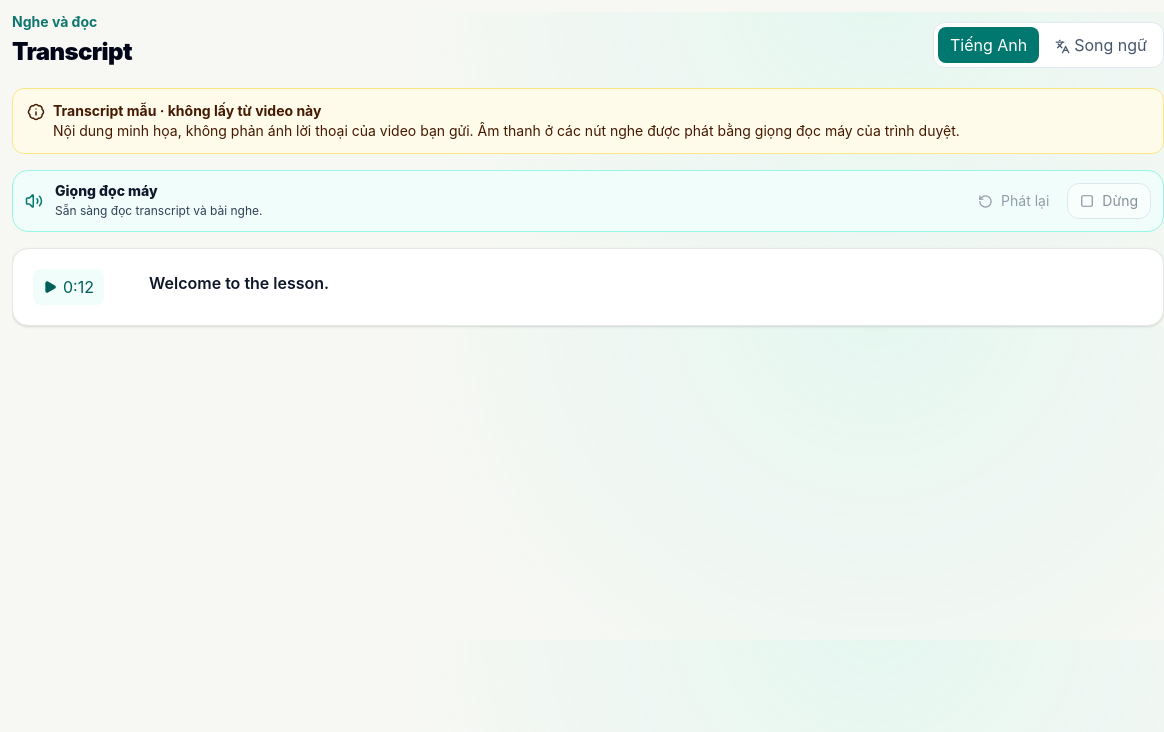
TranscriptPanel speech › speaks the exact source text without speaking its translation
What coordinates should you click on to do the following:
click the button named "Đọc đoạn transcript từ 0:12 đến 0:30 bằng giọng đọc máy"
I would click on:
 (68, 287)
Its box is x1=33 y1=269 x2=104 y2=305.
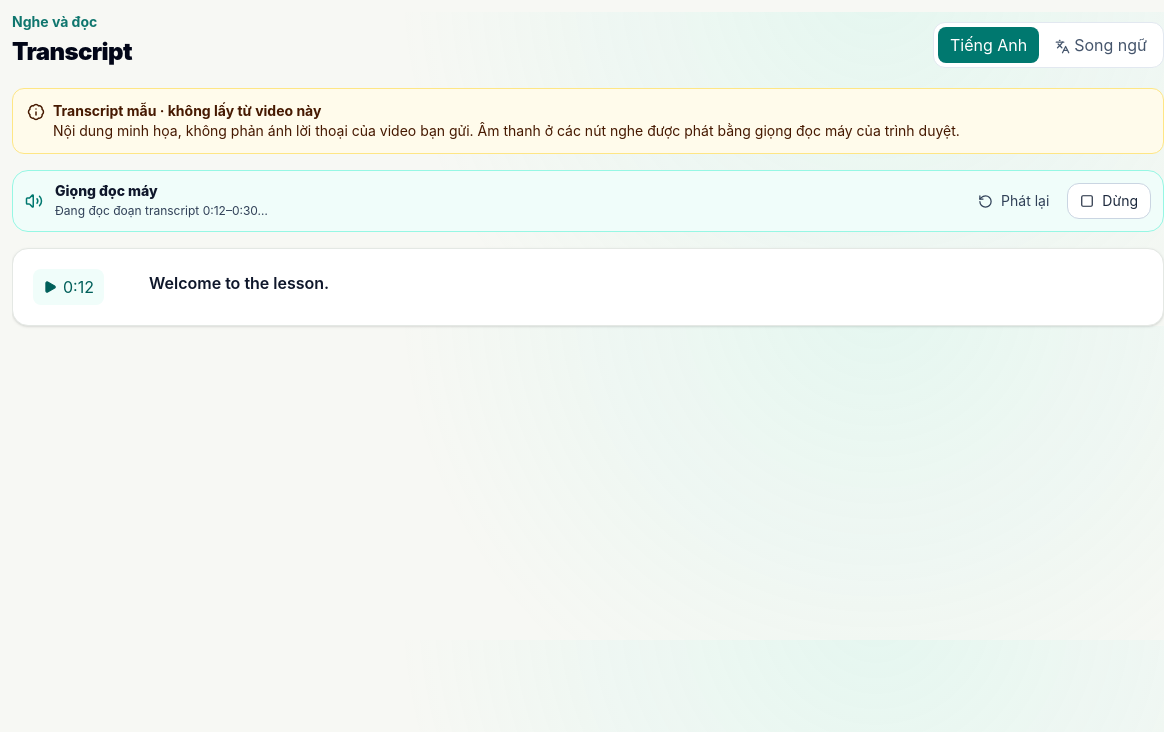
Check: the text "Welcome to the lesson." is shown, box x1=149 y1=273 x2=329 y2=293
Check: the text "Transcript mẫu · không lấy từ video này" is shown, box x1=53 y1=102 x2=321 y2=119
What coordinates should you click on to do the following:
click the button "Song ngữ"
I would click on:
 (1101, 45)
Its box is x1=1043 y1=27 x2=1159 y2=63.
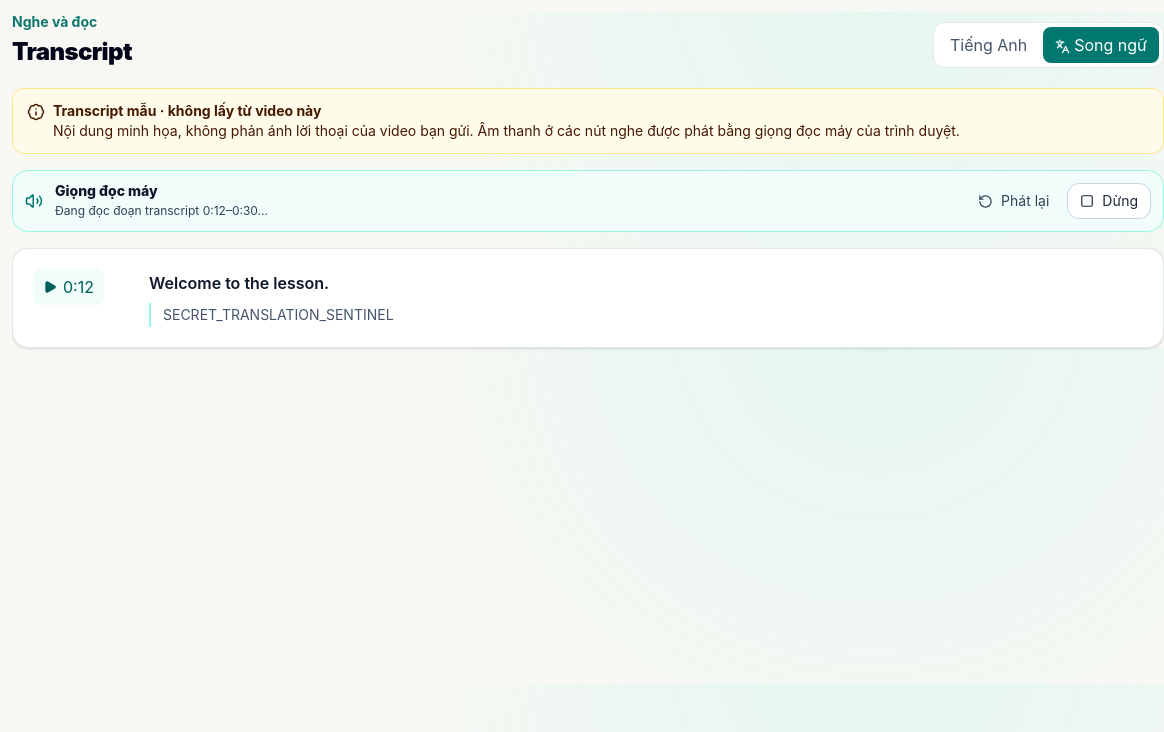
Check: the text "SECRET_TRANSLATION_SENTINEL" is shown, box x1=149 y1=303 x2=1143 y2=327
What coordinates should you click on to do the following:
click the button "Tiếng Anh"
I would click on:
 (989, 45)
Its box is x1=938 y1=27 x2=1039 y2=63.
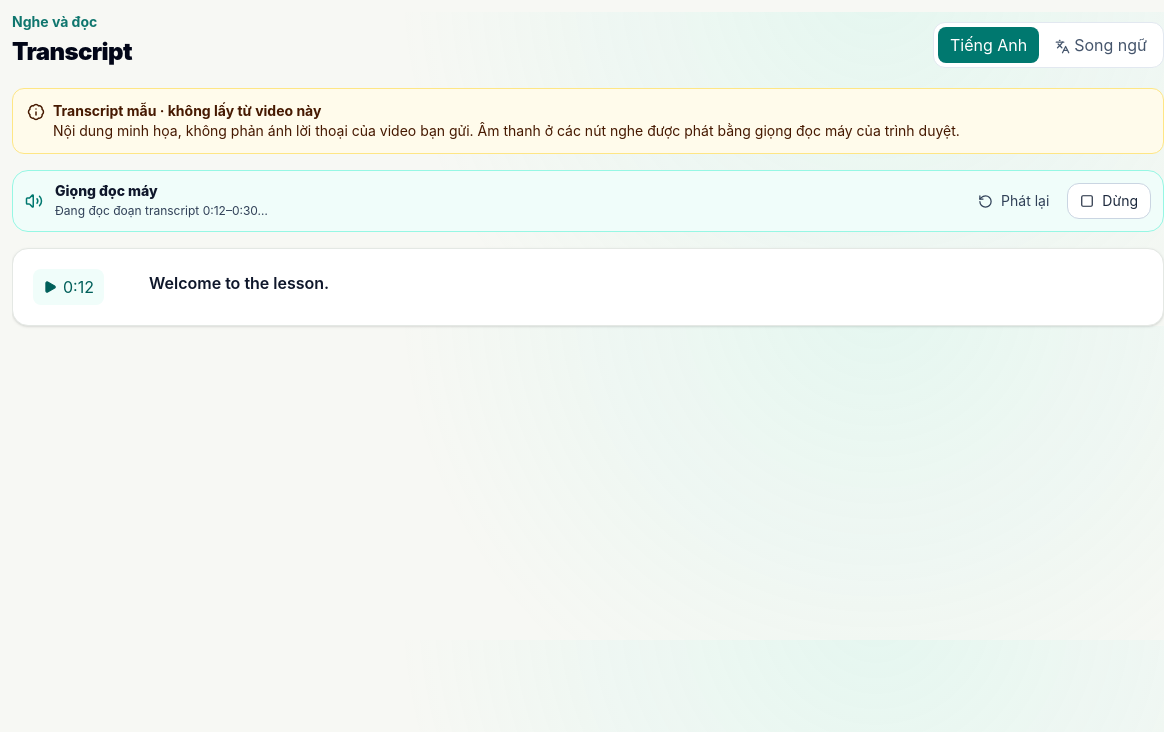
Check: the text "SECRET_TRANSLATION_SENTINEL" is gone
